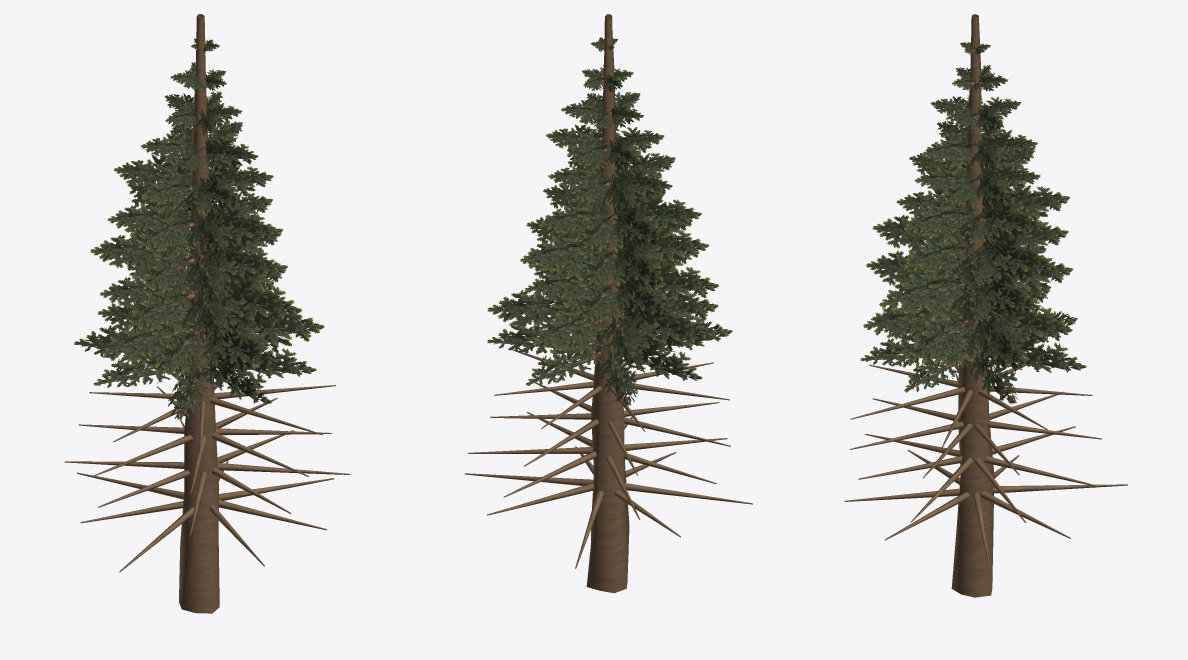
Rendered from spruce.glb.
3 renders of one model, left to right at view 1: azimuth 30°, elevation 25°; view 2: azimuth 150°, elevation 25°; view 3: azimuth 270°, elevation 25°, orthographic. The views are drawn at different scales.
Parts seen in each view (by area): view 1: Foliage, Bark; view 2: Foliage, Bark; view 3: Foliage, Bark.
Boxes of the visible parts, x1,y1,x2,y2 form: Foliage: (74,38,324,420); Bark: (64,14,350,613); Foliage: (487,37,732,405); Bark: (464,14,752,593); Foliage: (860,42,1086,404); Bark: (844,14,1127,597).
Size of the model in its own units: 4.65 by 8 by 4.59.
2 materials, 2 textured.
